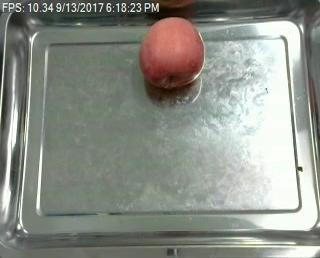apple: (138, 16, 207, 89)
